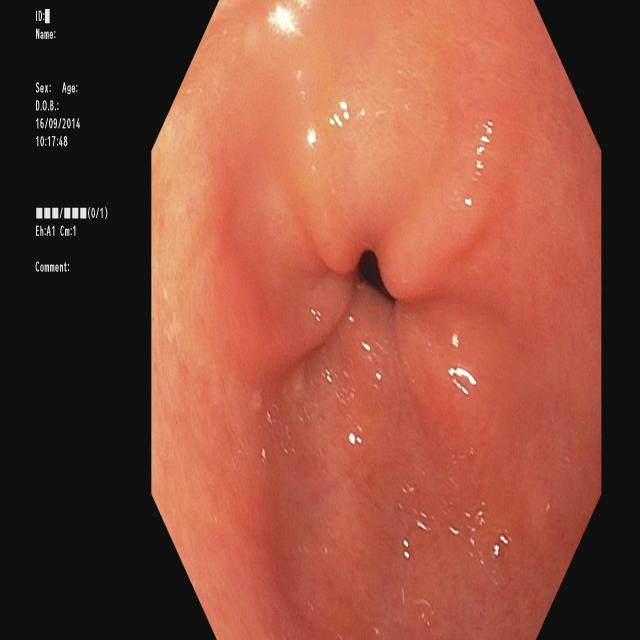normal-pylorus: (228, 30, 540, 617)
